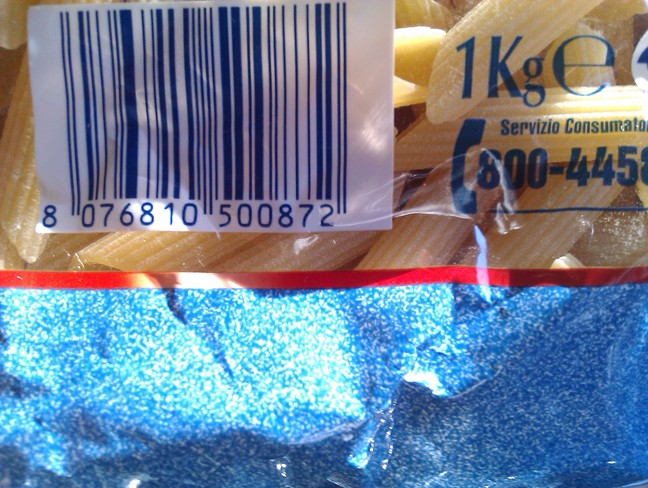barcode: (19, 5, 370, 235)
